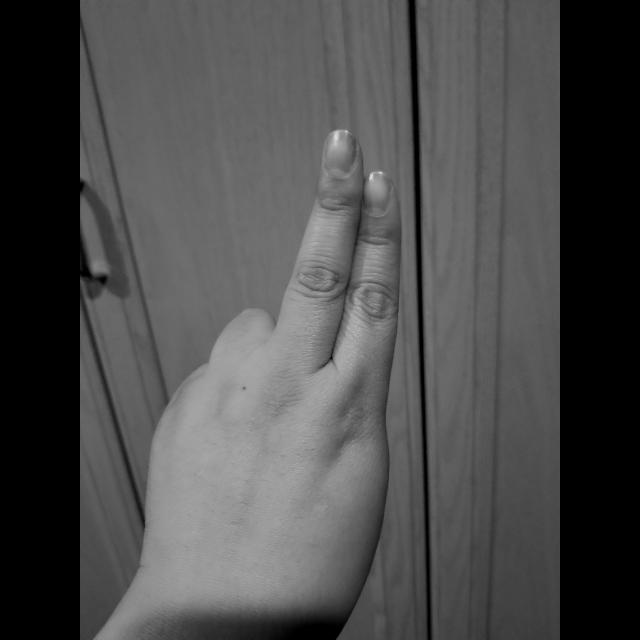U: (126, 122, 408, 640)
